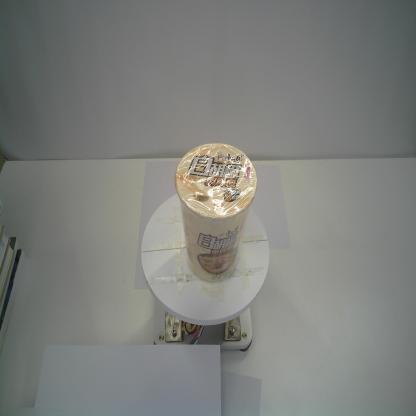Instant Noodles: (174, 142, 258, 283)
